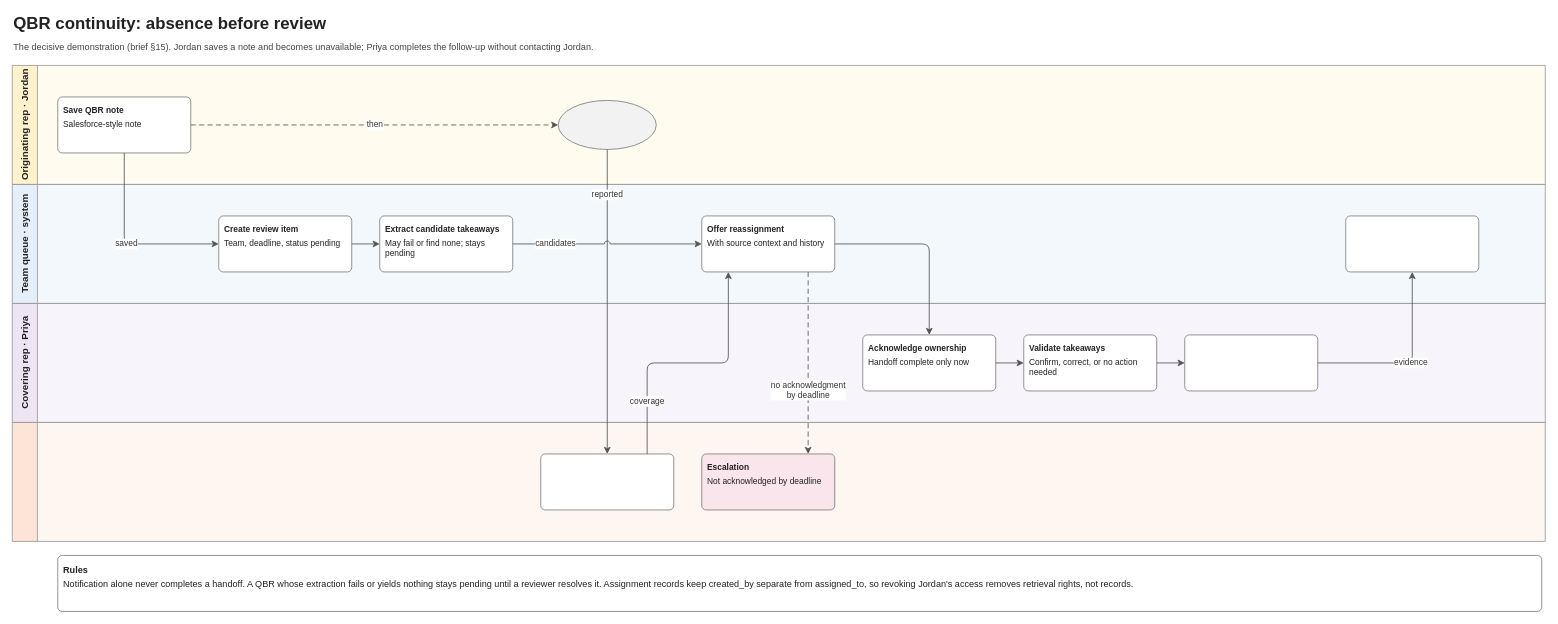
The diagram is 1558 pixels wide and 624 high, and some of its shapes have lost their labels. Here are the shapes that lost their labels. From the top down, the box of each, then its label:
(558, 100, 656, 149): Unavailable
(1345, 215, 1479, 272): Close with evidence Completion evidence required
(1184, 334, 1318, 391): Approve and execute Actions with owner and due date
(540, 453, 674, 510): Activate coverage Priya covers Jordan
(12, 422, 1545, 541): Team lead
